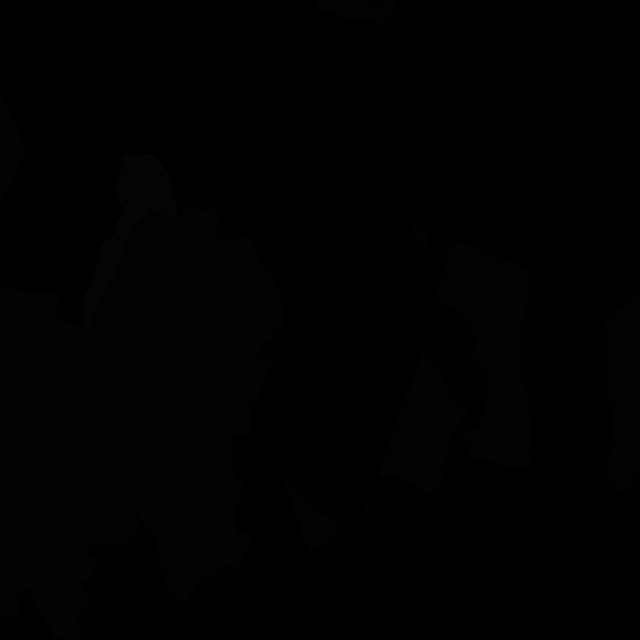cardboard: (86, 207, 284, 602), (0, 287, 140, 640), (436, 240, 534, 471), (378, 351, 468, 496), (603, 287, 640, 494), (281, 474, 342, 553), (0, 87, 27, 204), (311, 0, 397, 26), (410, 220, 429, 247), (362, 498, 372, 513)
soft_plastic: (82, 154, 178, 330)
